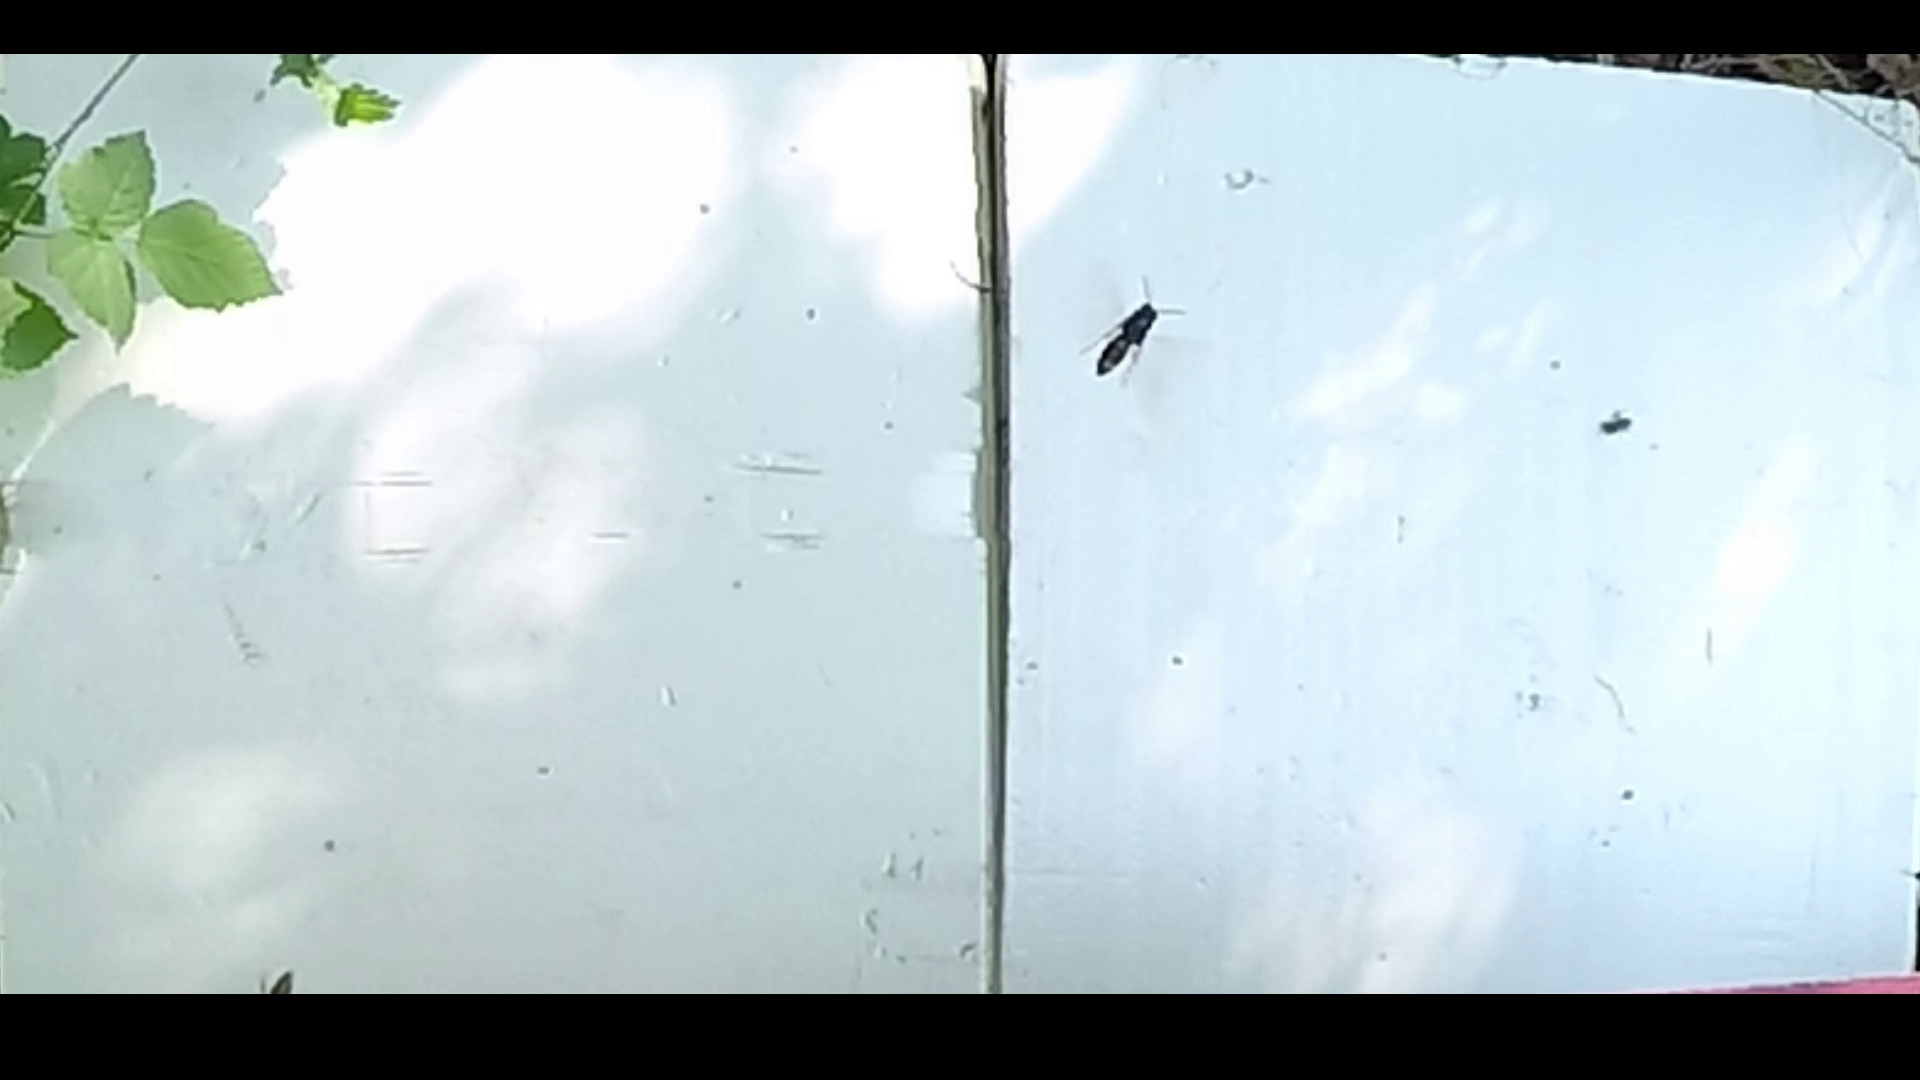Asian_hornets: (1064, 261, 1197, 397)
